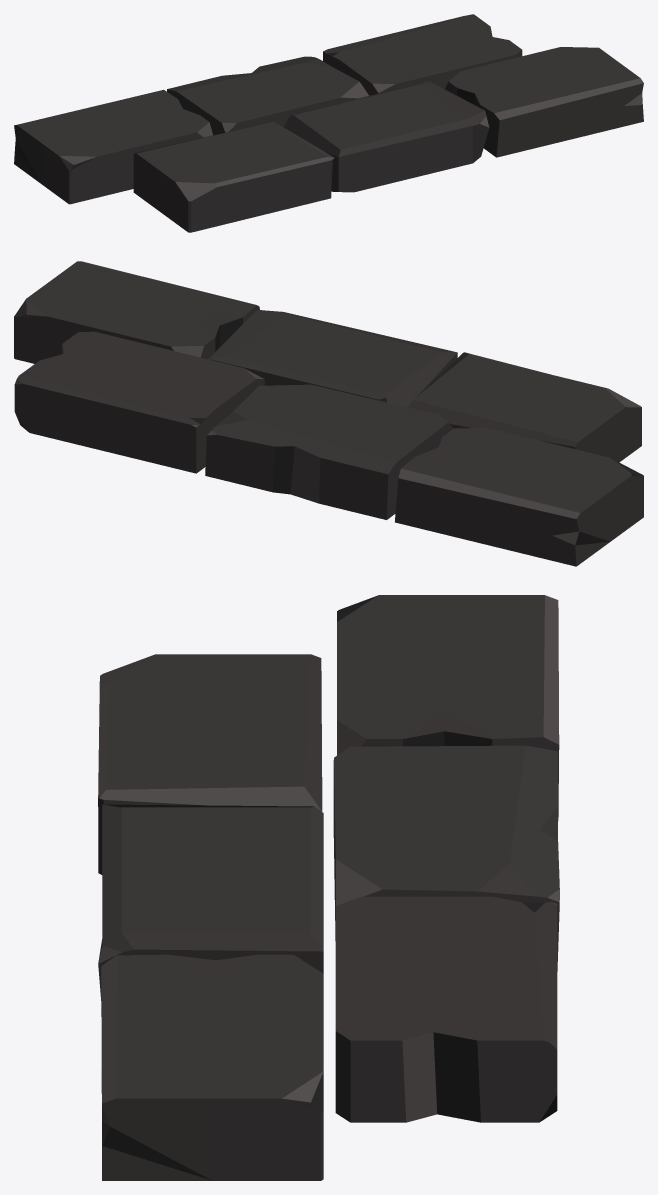
The model's file is Stone_Blocks_01.glb.
The picture shows the model from 3 angles, top to bottom: view 1: azimuth 30°, elevation 25°; view 2: azimuth 150°, elevation 25°; view 3: azimuth 270°, elevation 25°; orthographic projection. The views are drawn at different scales.
Visible parts, largest first — view 1: Stone_Blocks_01; view 2: Stone_Blocks_01; view 3: Stone_Blocks_01.
Part boxes in pixels (x1=…): Stone_Blocks_01: x1=14, y1=14, x2=643, y2=232; Stone_Blocks_01: x1=14, y1=261, x2=643, y2=566; Stone_Blocks_01: x1=98, y1=595, x2=559, y2=1180.
Size of what is drawn, in the model's own units: 3 by 0.2374 by 1.16.
1 material, 1 textured.
